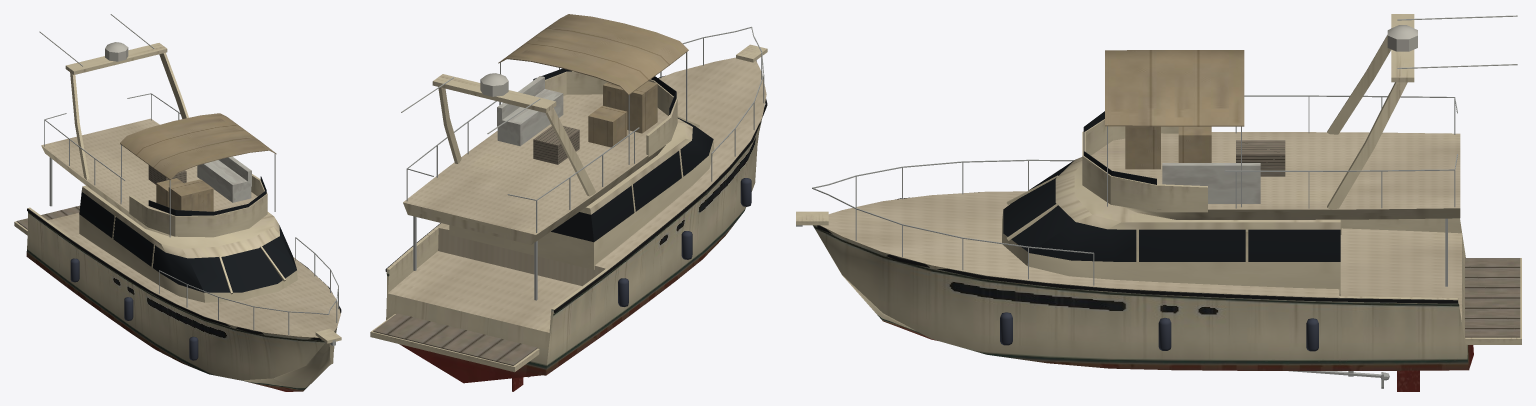
The model's file is motorYacht-b-lod1.glb.
The picture shows the model from 3 angles, left to right: view 1: azimuth 30°, elevation 25°; view 2: azimuth 150°, elevation 25°; view 3: azimuth 270°, elevation 25°; orthographic projection. The views are drawn at different scales.
Visible parts, largest first — view 1: Superstructure, Hull, Gear; view 2: Superstructure, Hull, Gear; view 3: Hull, Superstructure, Gear.
Boxes of the visible parts, x1,y1,x2,y2 form: Superstructure: (39, 14, 297, 302); Hull: (14, 205, 341, 391); Gear: (44, 93, 338, 360); Superstructure: (401, 14, 714, 269); Hull: (370, 44, 767, 391); Gear: (406, 26, 764, 306); Hull: (796, 191, 1521, 391); Superstructure: (1002, 14, 1517, 293); Gear: (812, 95, 1457, 351).
Bounding box in the file's own units: 4.59 × 7.07 × 13.28.
1 material, 1 textured.
